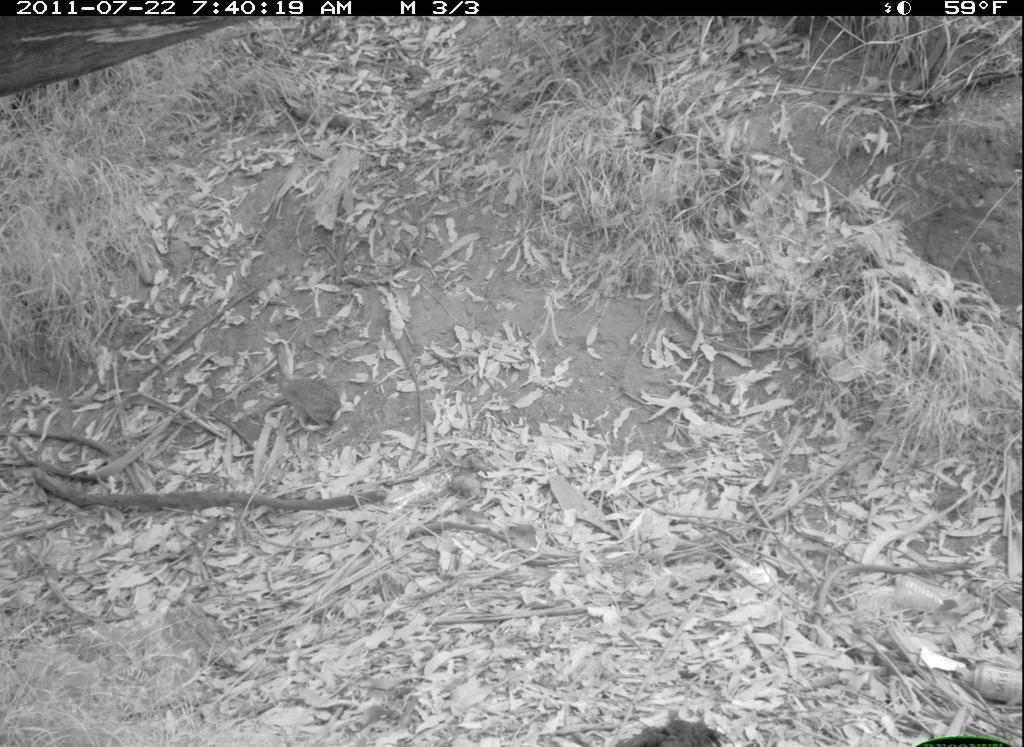rabbit: (250, 327, 355, 443)
